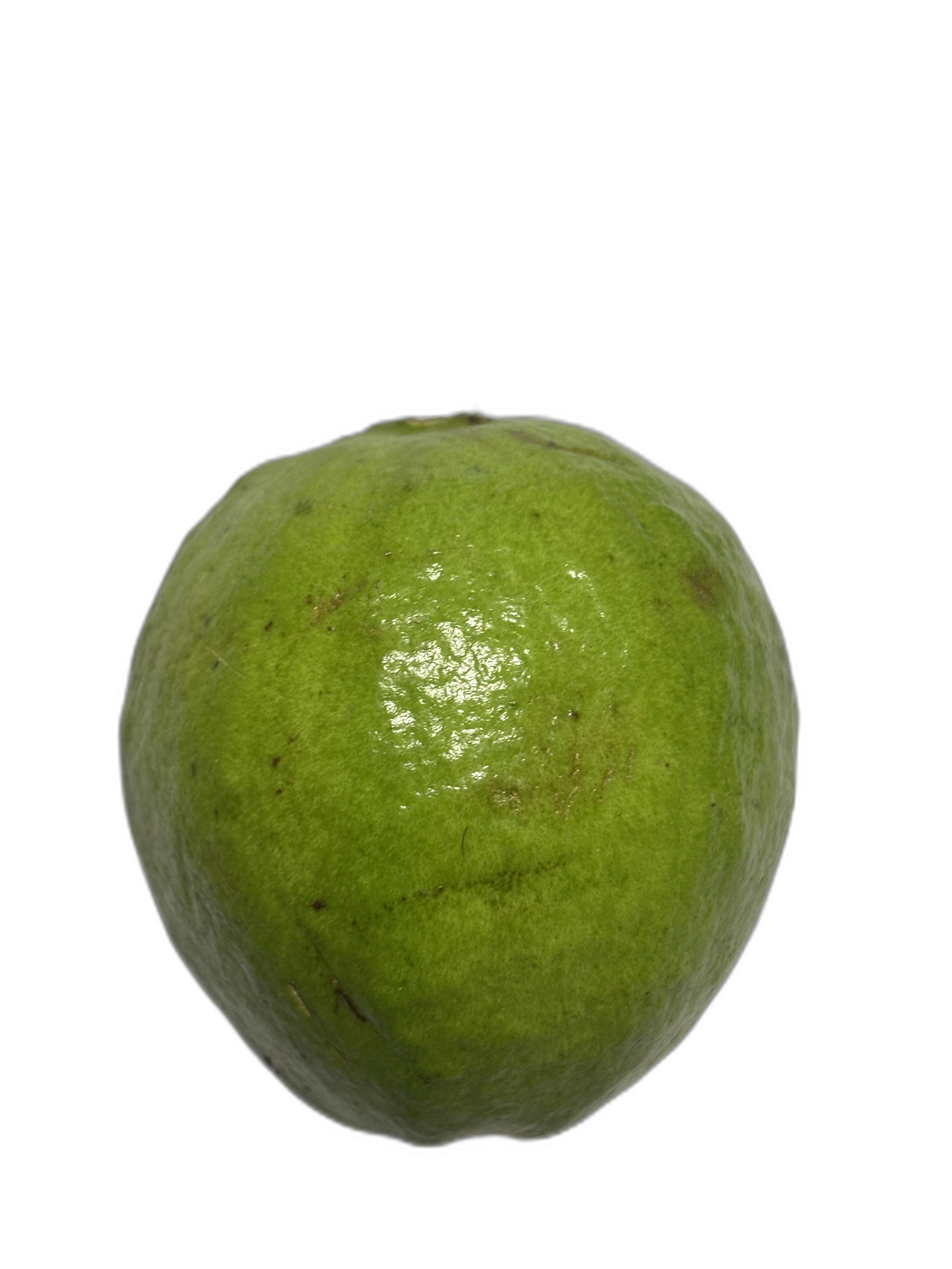guava: (143, 139, 902, 938)
